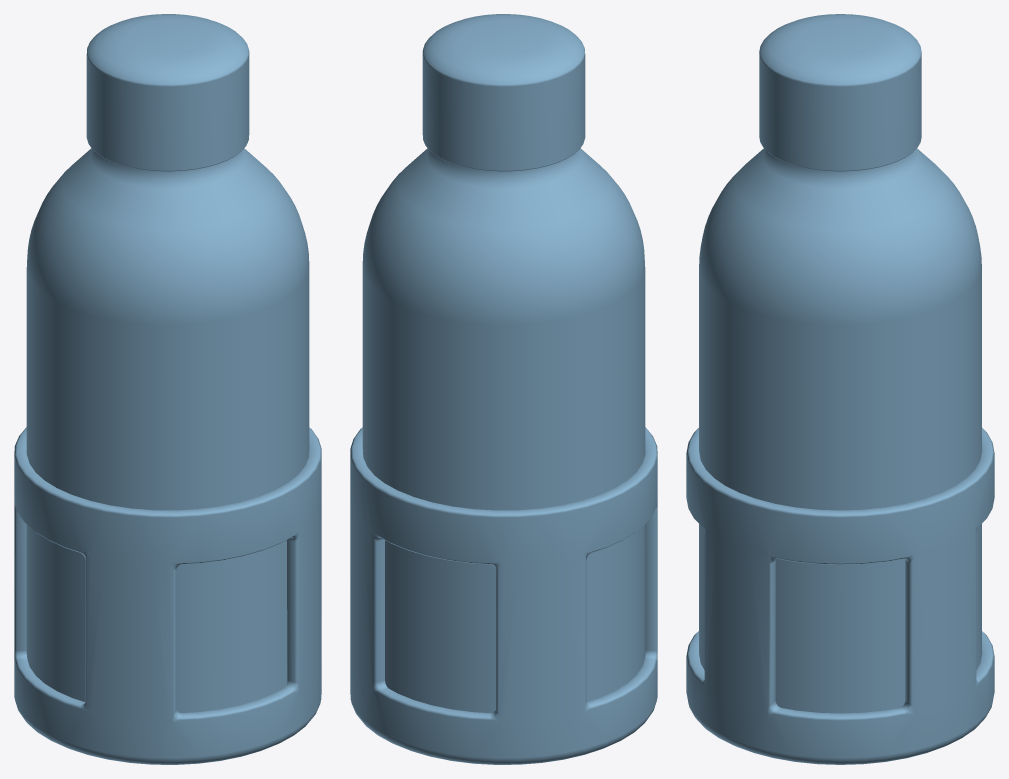
Rendered from water-bottle.glb.
3 views of the same model, side by side, from view 1: azimuth 30°, elevation 25°; view 2: azimuth 150°, elevation 25°; view 3: azimuth 270°, elevation 25° (orthographic).
Visible parts, largest first — view 1: WaterBottle; view 2: WaterBottle; view 3: WaterBottle.
Boxes of the visible parts, <box> form: WaterBottle: <box>14,14,321,764</box>; WaterBottle: <box>350,14,657,764</box>; WaterBottle: <box>686,14,994,764</box>.
Bounding box in the file's own units: 0.1089 × 0.2604 × 0.1089.
